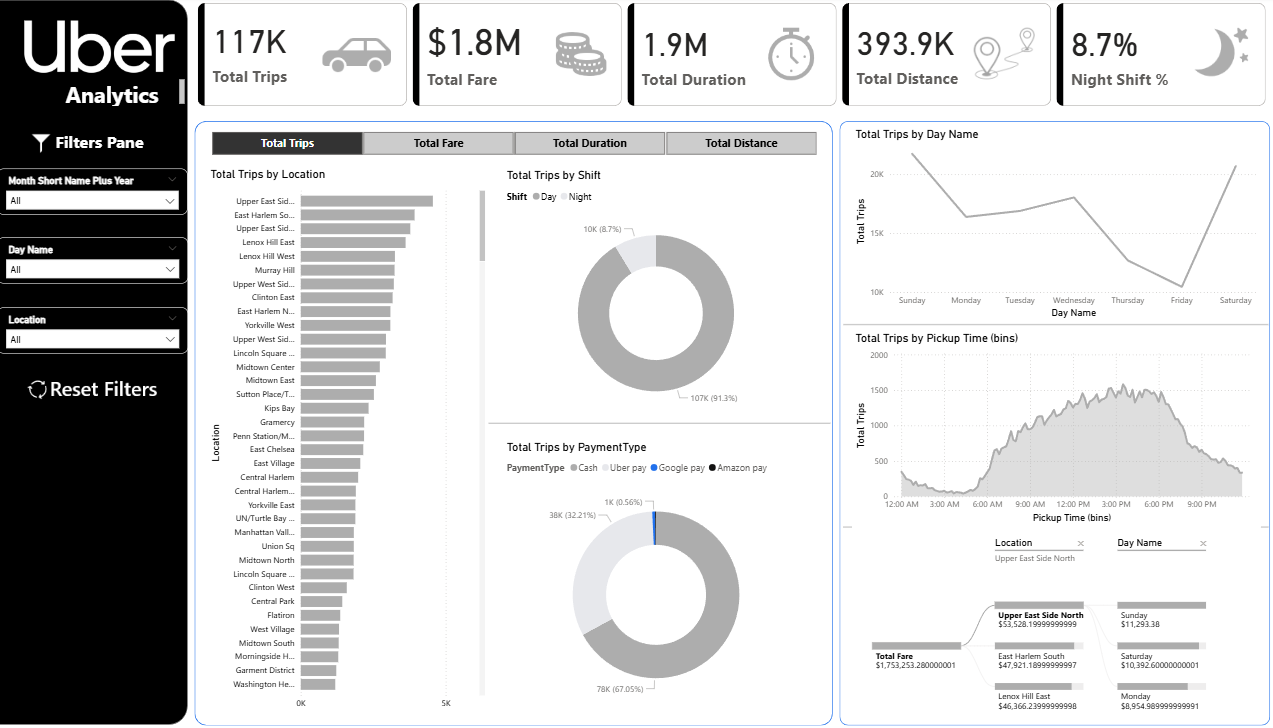

Layout of this report page (visuals, bound fields, positions):
{"tool":"powerbi","page":{"name":"Page 1","canvas":[1920,1080],"ordinal":0},"visuals":[{"type":"shape","box":[1241.3,728.3,623.9,102.2],"z":0},{"type":"shape","box":[1241.3,430.4,623.9,102.2],"z":1000},{"type":"shape","box":[721.7,576.1,502.2,102.2],"z":2000},{"type":"shape","box":[290.2,183.2,936.5,887.1],"z":3000},{"type":"shape","box":[0,6.2,279.9,1064.2],"z":4000},{"type":"textbox","box":[94.7,117.3,185.2,49.4],"z":5000},{"type":"textbox","box":[80.3,193.5,199.7,59.7],"z":6000},{"type":"slicer","fields":{"Values":["DateTable.Month Short Name Plus Year"]},"box":[0,253,280.2,67.8],"z":7000},{"type":"slicer","fields":{"Values":["DateTable.Day Name"]},"box":[0,354,280.6,67.9],"z":8000},{"type":"slicer","fields":{"Values":["Location Table.Location"]},"box":[0,456.7,280.6,67.9],"z":9000},{"type":"cardVisual","fields":{"Data":["Trip Details.Total Trips","Trip Details.Total Fare","Trip Details.Total Duration","Trip Details.Total Distance","Trip Details.Night Shift %"]},"box":[289.8,5.5,1579.3,161.4],"z":10000},{"type":"clusteredBarChart","fields":{"Y":["Trip Details.Total Trips"],"Category":["Location Table.Location"]},"box":[308.7,252.2,413,804.3],"z":11000},{"type":"slicer","fields":{"Values":["Toggle.Toggle"]},"box":[290.2,193.5,936.5,47.3],"z":12000},{"type":"donutChart","fields":{"Y":["Trip Details.Total Trips"],"Category":["Trip Details.PaymentType"]},"box":[742.9,651.2,449.4,405.4],"z":13000},{"type":"donutChart","fields":{"Y":["Trip Details.Total Trips"],"Category":["Trip Details.Shift"]},"box":[743.1,253.2,448.7,374.6],"z":14000},{"type":"shape","box":[1237.1,183.2,631.9,887.1],"z":15000},{"type":"lineChart","fields":{"Y":["Trip Details.Total Trips"],"Category":["DateTable.Day Name"]},"box":[1255,193.3,600,286],"z":16000},{"type":"areaChart","fields":{"Y":["Trip Details.Total Trips"],"Category":["Trip Details.Pickup Time (bins)"]},"box":[1254.3,491.3,600,287],"z":17000},{"type":"decompositionTreeVisual","fields":{"Analyze":["Trip Details.Total Fare"],"ExplainBy":["Location Table.Location","DateTable.Day Name"]},"box":[1254.3,778.3,600,287],"z":18000},{"type":"image","box":[8.7,556.5,260.9,69.6],"z":19000},{"type":"image","box":[0,30.4,300,87],"z":20000},{"type":"image","box":[37,550,206.5,52.2],"z":21000},{"type":"image","box":[37,193.5,56.5,47.8],"z":22000}]}

Visuals, with their boxes in screenshot pixels (x1, y1, x2, y2), scaled from the page's 1920x1080 canvas onto the 1273x728 screenshot:
shape: [823,491,1237,560]
shape: [823,290,1237,359]
shape: [479,388,811,457]
shape: [192,123,813,721]
shape: [0,4,186,722]
textbox: [63,79,186,112]
textbox: [53,130,186,171]
slicer - DateTable.Month Short Name Plus Year: [0,171,186,216]
slicer - DateTable.Day Name: [0,239,186,284]
slicer - Location Table.Location: [0,308,186,354]
cardVisual - Trip Details.Total Trips x Trip Details.Total Fare: [192,4,1239,113]
clusteredBarChart - Trip Details.Total Trips x Location Table.Location: [205,170,479,712]
slicer - Toggle.Toggle: [192,130,813,162]
donutChart - Trip Details.Total Trips x Trip Details.PaymentType: [493,439,791,712]
donutChart - Trip Details.Total Trips x Trip Details.Shift: [493,171,790,423]
shape: [820,123,1239,721]
lineChart - Trip Details.Total Trips x DateTable.Day Name: [832,130,1230,323]
areaChart - Trip Details.Total Trips x Trip Details.Pickup Time (bins): [832,331,1229,525]
decompositionTreeVisual - Trip Details.Total Fare x Location Table.Location: [832,525,1229,718]
image: [6,375,179,422]
image: [0,20,199,79]
image: [25,371,161,406]
image: [25,130,62,163]
